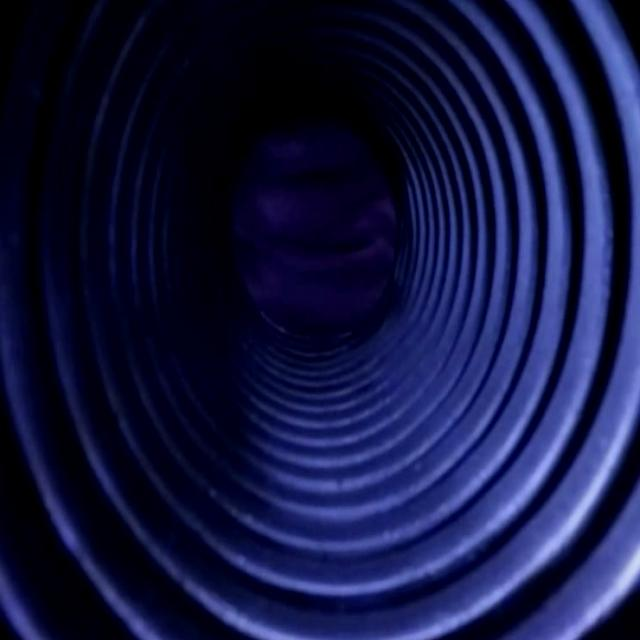block: (238, 133, 404, 345)
